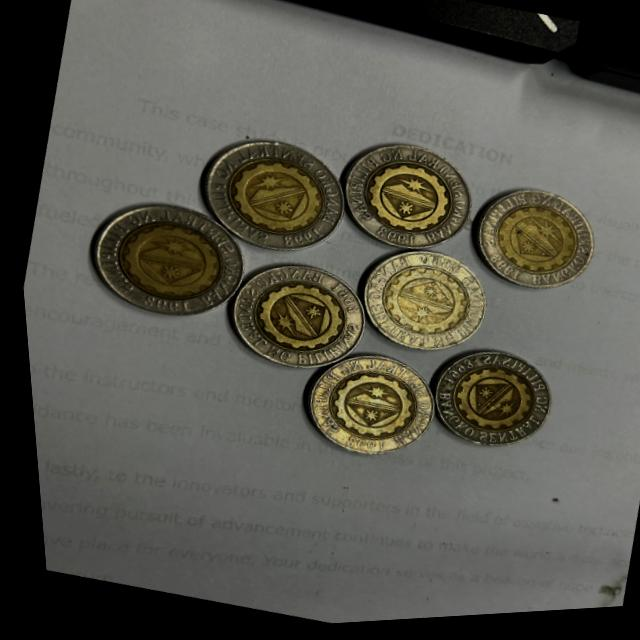10_Old_Back: (81, 192, 244, 330), (188, 136, 348, 275), (288, 346, 434, 476), (220, 269, 369, 393), (409, 342, 549, 469), (334, 140, 468, 263), (349, 253, 475, 371), (468, 193, 595, 303)
